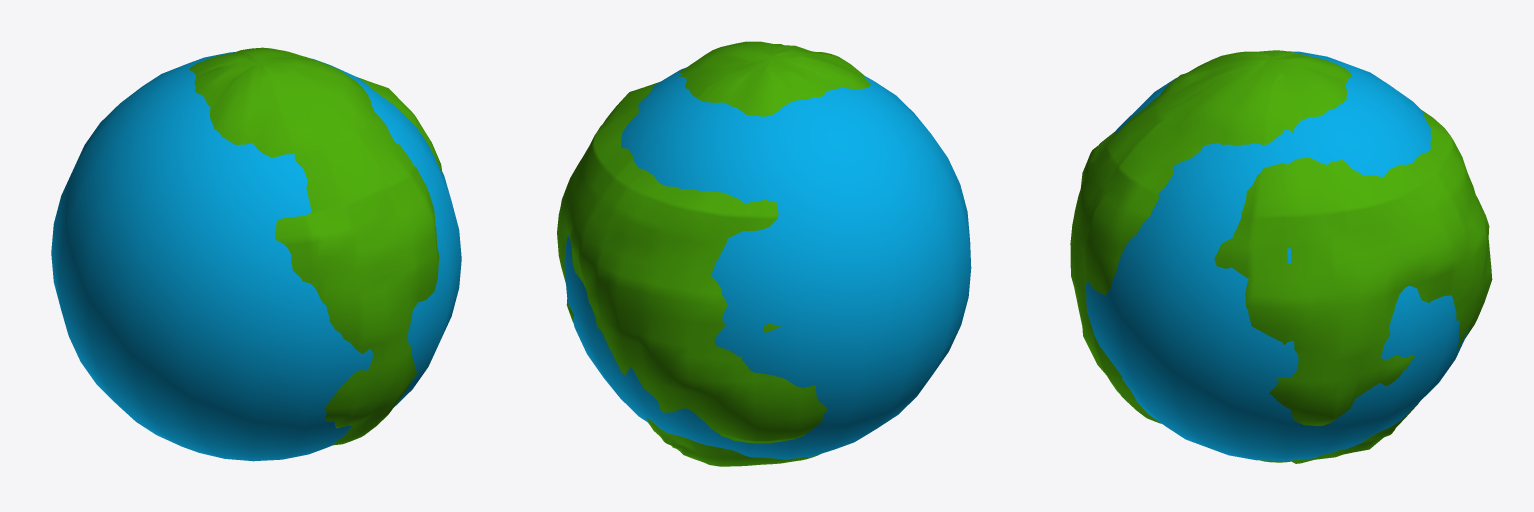
Rendered from FBX_EARTH.fbx.
3 views of the same model, side by side, from view 1: azimuth 30°, elevation 25°; view 2: azimuth 150°, elevation 25°; view 3: azimuth 270°, elevation 25° (orthographic).
Visible parts, largest first — view 1: FBX_EARTH, FBX_EARTH_GROUND; view 2: FBX_EARTH, FBX_EARTH_GROUND; view 3: FBX_EARTH_GROUND, FBX_EARTH.
Part boxes in pixels (<box>): FBX_EARTH: <box>51,52,461,461</box>; FBX_EARTH_GROUND: <box>189,47,442,445</box>; FBX_EARTH: <box>564,67,971,459</box>; FBX_EARTH_GROUND: <box>557,41,870,466</box>; FBX_EARTH_GROUND: <box>1070,50,1492,463</box>; FBX_EARTH: <box>1085,51,1469,461</box>.
Bounding box in the file's own units: 1560 × 1564 × 1560.
